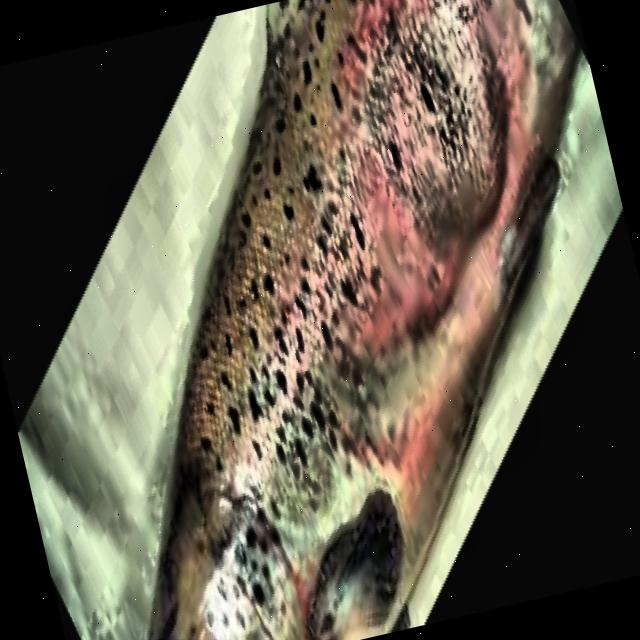mild_red: (183, 0, 576, 570)
